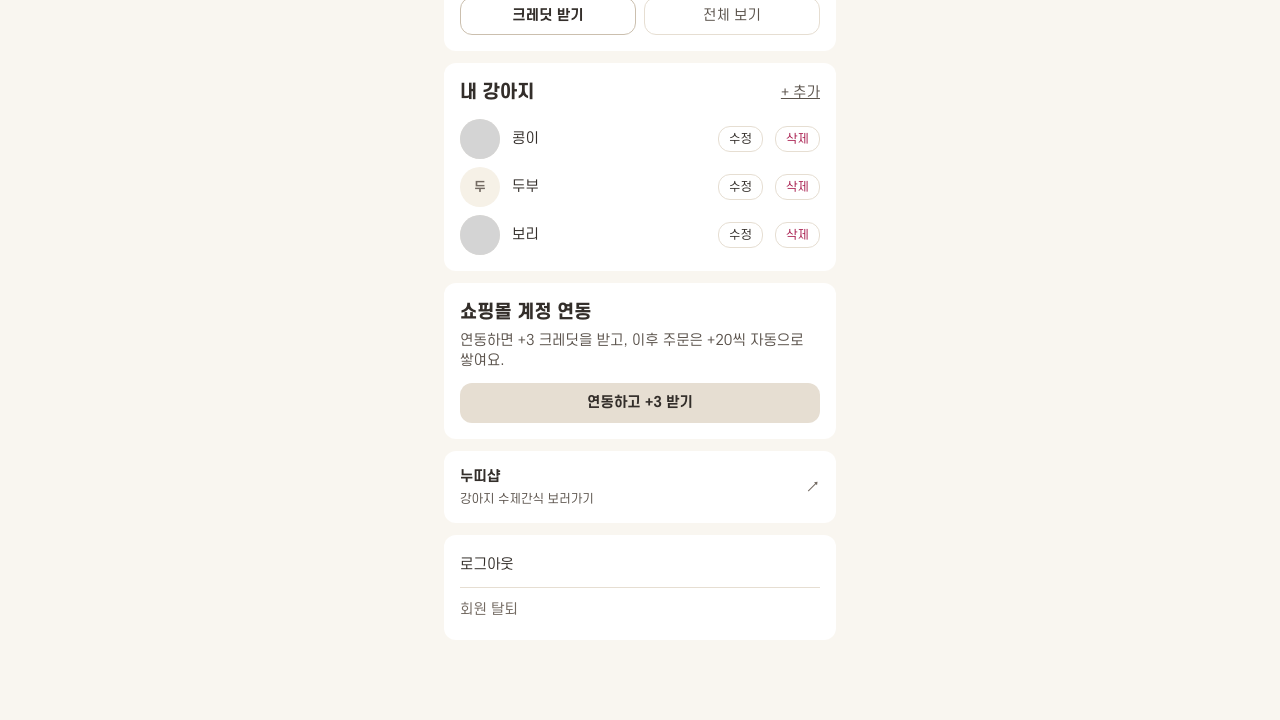
W-12 · 회원 탈퇴 › 확인 창이 고지 3건을 말한다
(page scrolled)
Click the button "회원 탈퇴" at (489, 610), box [460, 587, 820, 632]
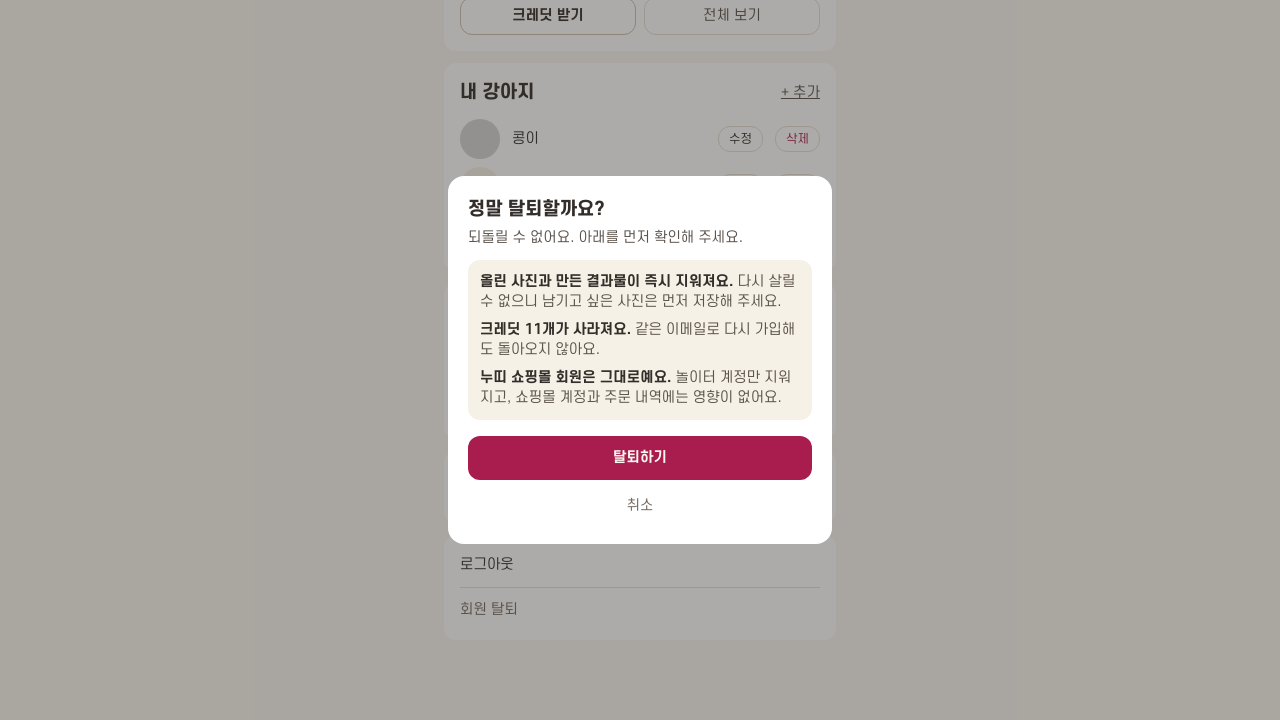
Now the text "올린 사진과 만든 결과물이 즉시 지워져요." is shown, box [480, 273, 733, 290]
Now the text "크레딧 11개가 사라져요." is shown, box [480, 321, 631, 338]
Now the list item "크레딧 11개가 사라져요. 같은 이메일로 다시 가입해도 돌아오지 않아요." is shown, box [480, 320, 800, 360]
